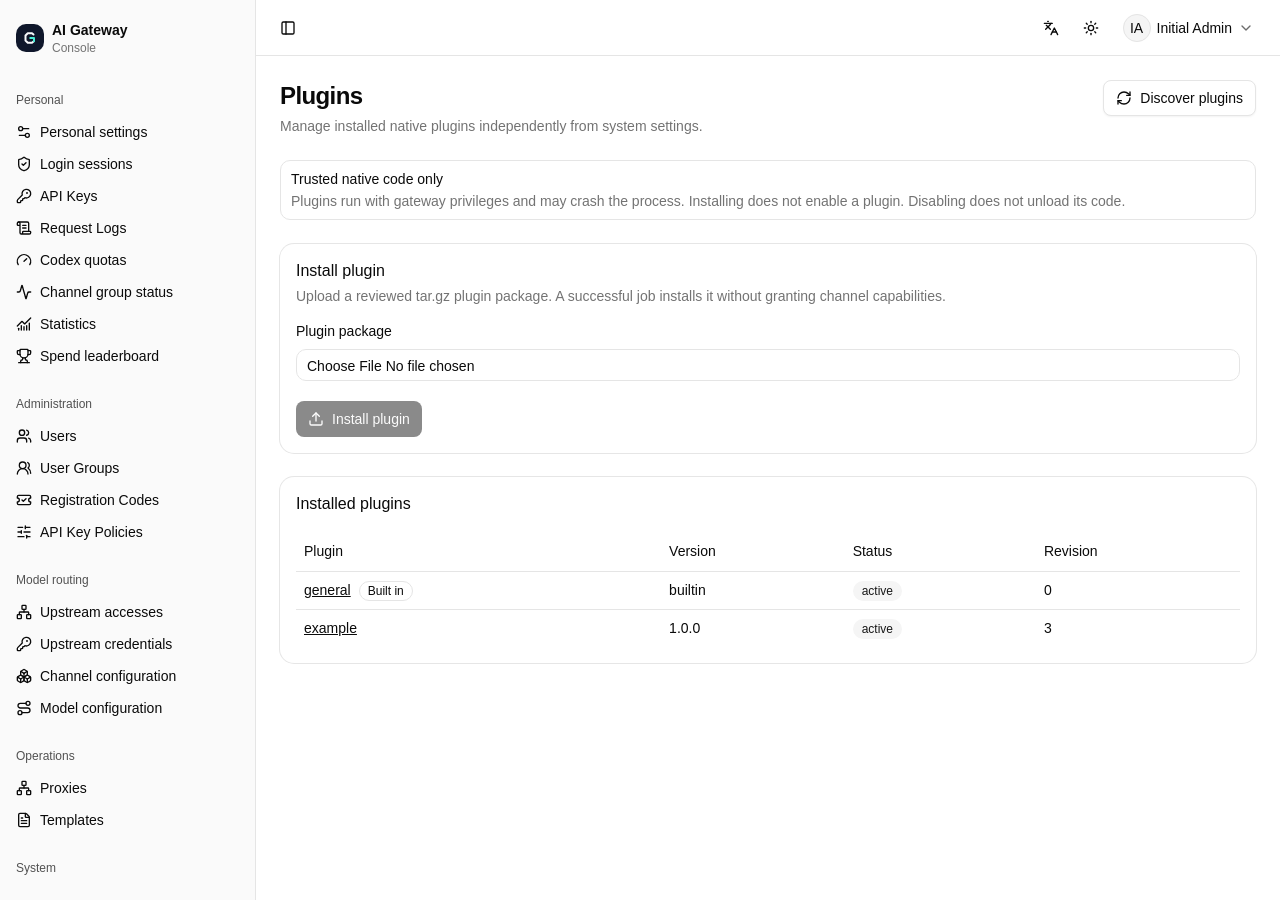
Test: Plugin management › shows discovery job failures and preserves the installed plugin inventory
Click the button "Discover plugins".
click(1180, 98)  # box [1103,80,1256,116]
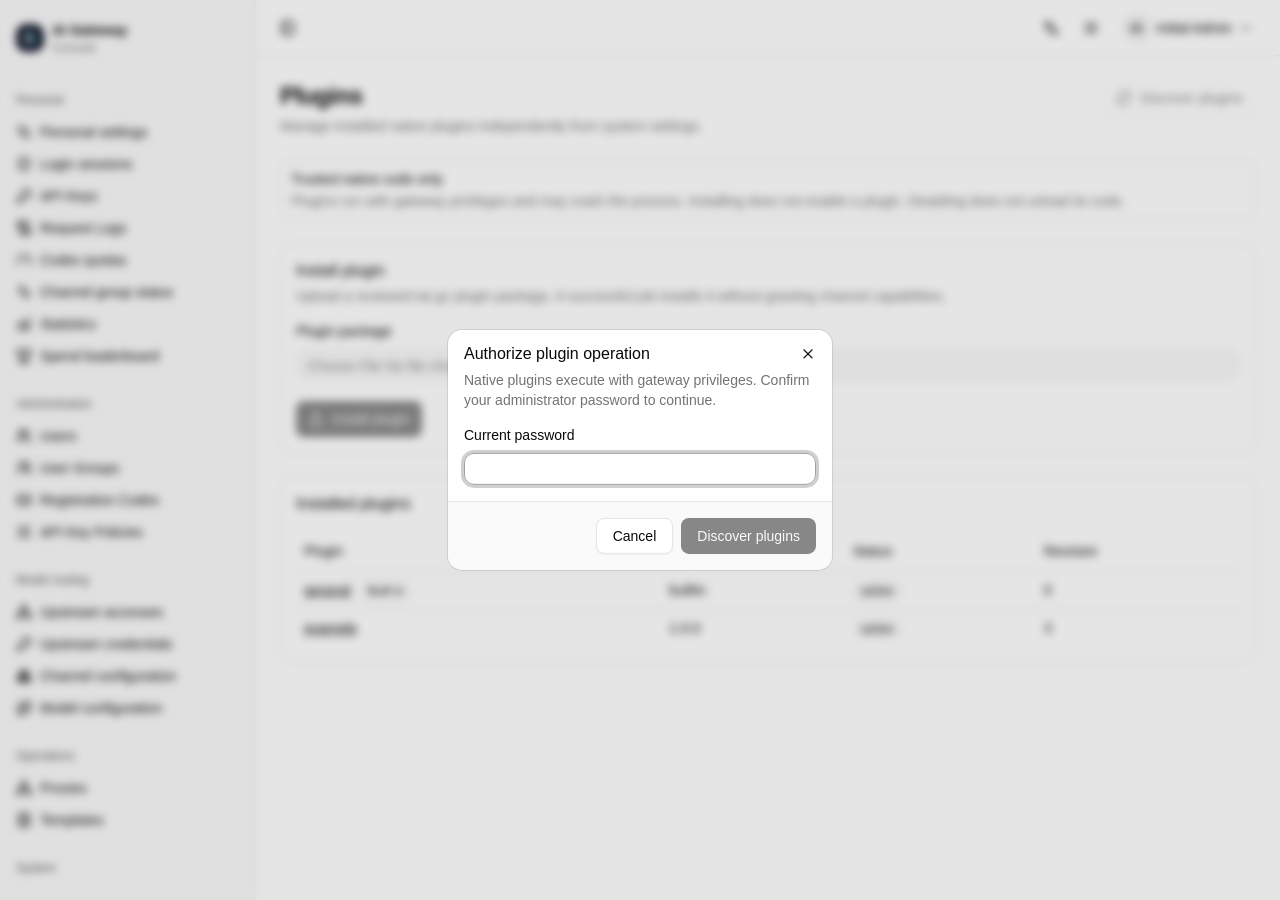
Type "administrator-password" into the password field labelled "Current password".
click(640, 469); type("administrator-password")  # box [464,453,816,485]
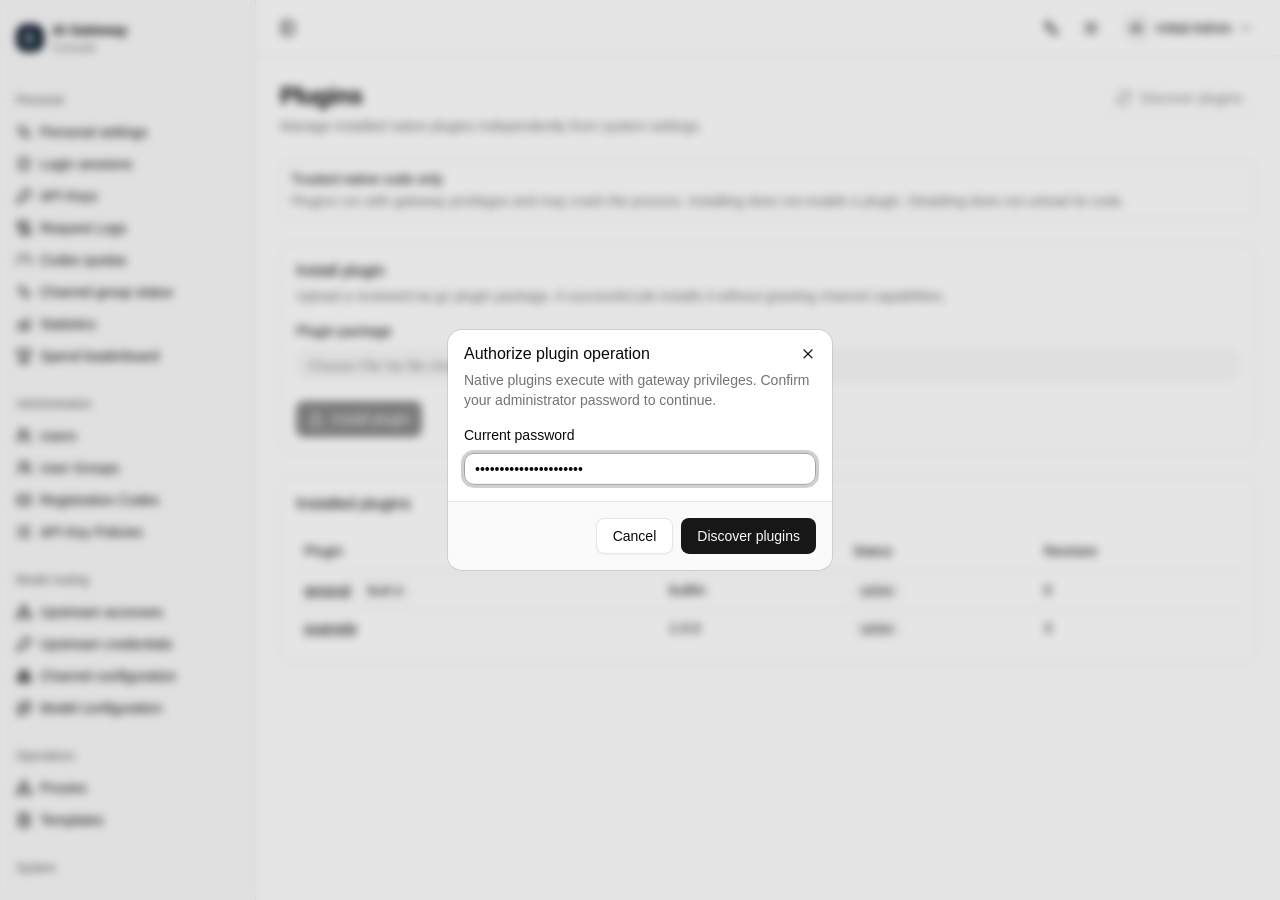
Click the button "Discover plugins".
click(749, 536)  # box [681,518,816,554]
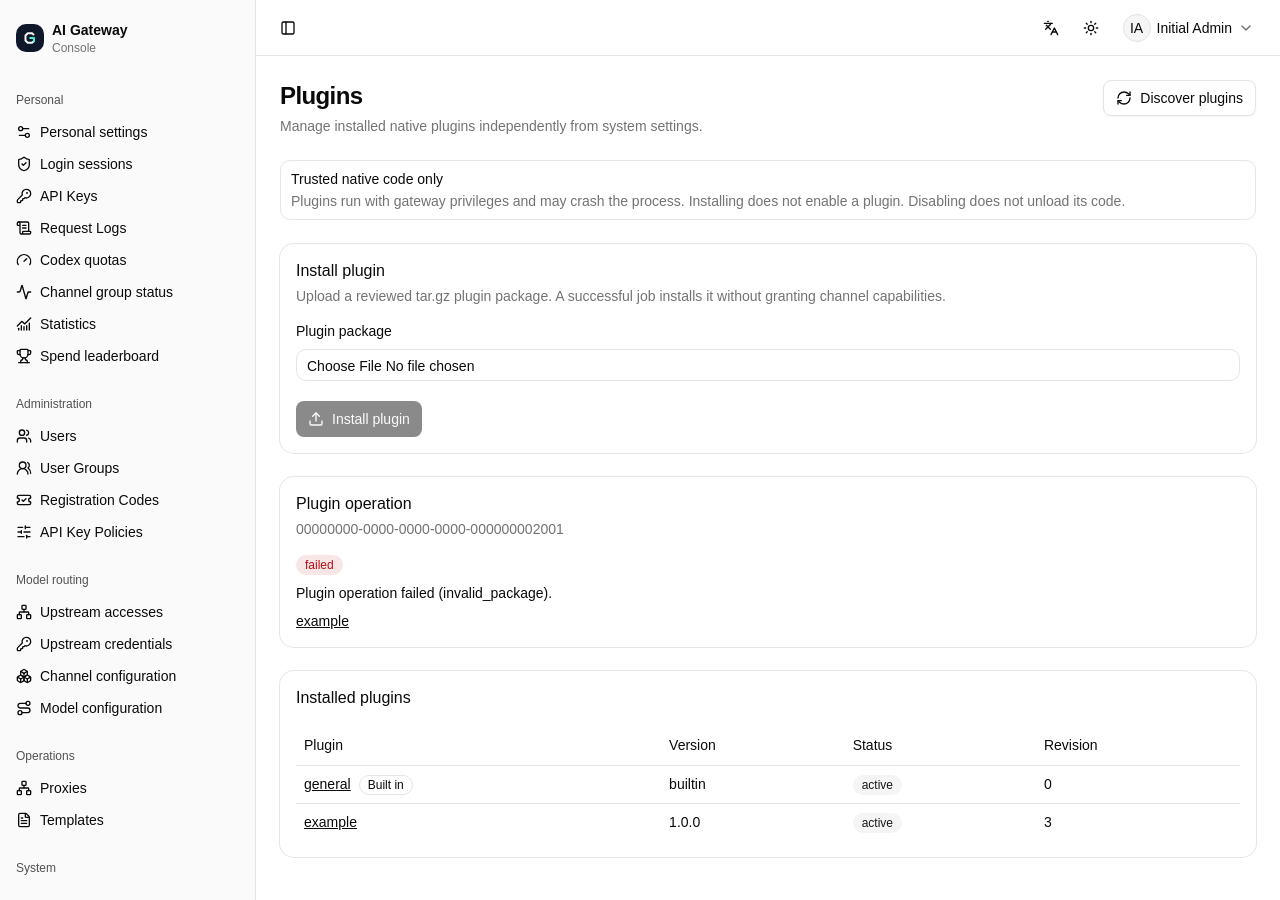
Expected: the link "general" is shown, [304,776,351,792]
Expected: the text "Plugin operation failed (invalid_package)." is shown, [296,585,552,601]
